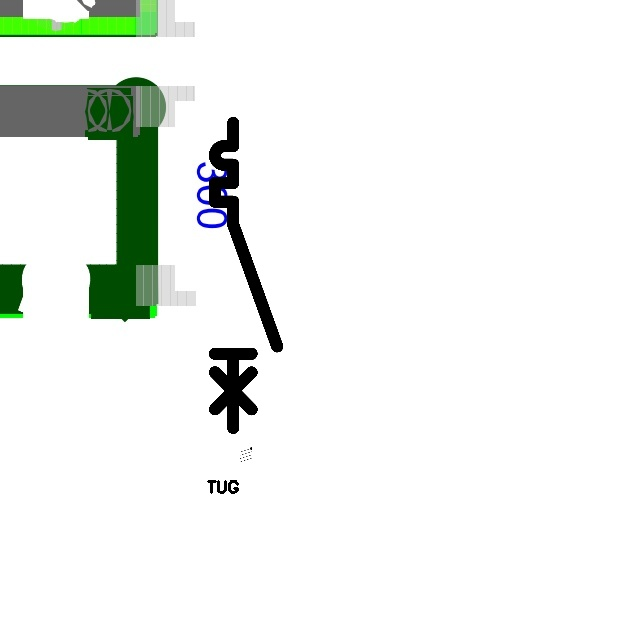interruptor_termomagnetico: (207, 115, 285, 435)
